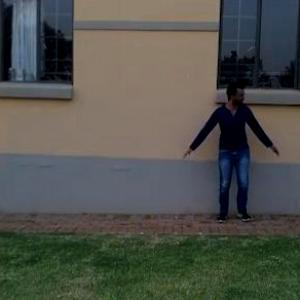land: (176, 74, 273, 238)
